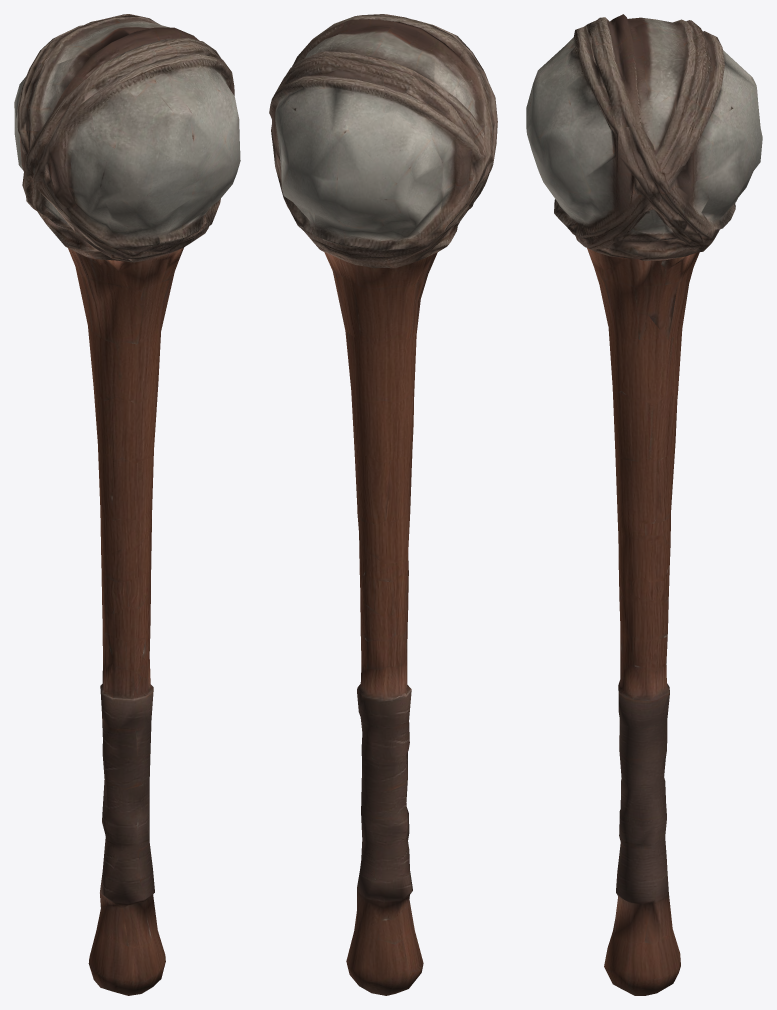
The model's file is 1467_mace.glb.
3 renders of one model, left to right at view 1: azimuth 30°, elevation 25°; view 2: azimuth 150°, elevation 25°; view 3: azimuth 270°, elevation 25°, orthographic.
Parts seen in each view (by area): view 1: Model; view 2: Model; view 3: Model.
Part boxes in pixels (x1=…): Model: x1=14, y1=14, x2=240, y2=995; Model: x1=269, y1=14, x2=497, y2=995; Model: x1=526, y1=14, x2=762, y2=995.
Bounding box in the file's own units: 0.2255 × 1 × 0.2216.
Materials: 1 (1 with a texture image).
